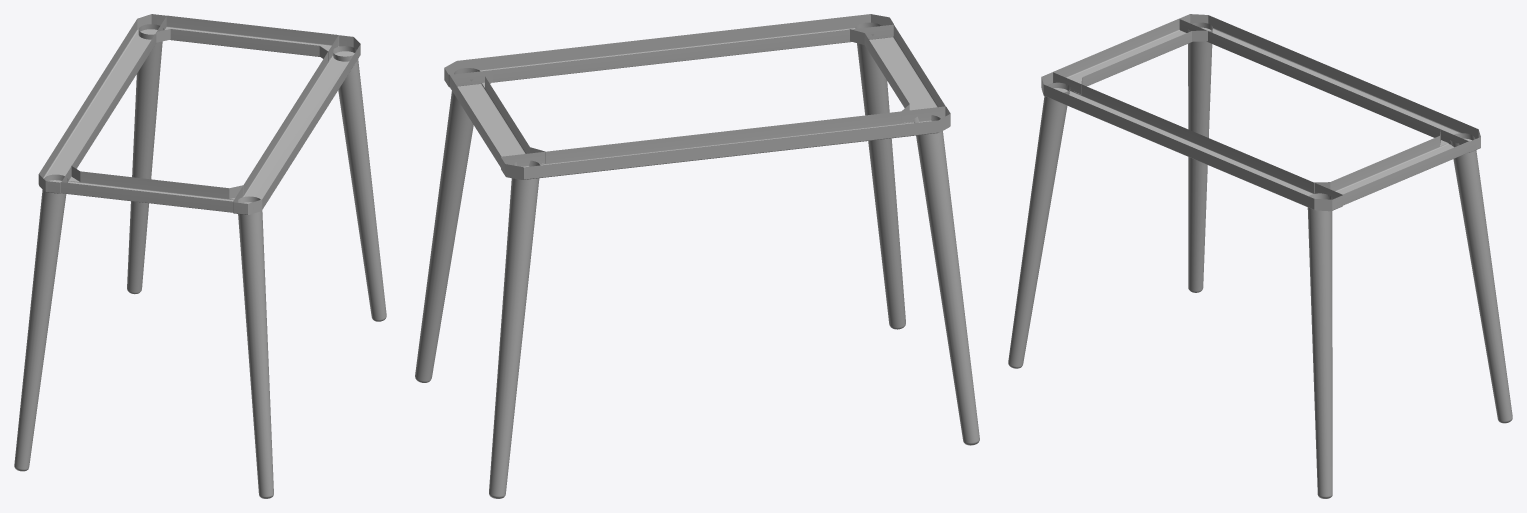
Rendered from diningtable_0101_leg.glb.
3 renders of one model, left to right at view 1: azimuth 30°, elevation 25°; view 2: azimuth 150°, elevation 25°; view 3: azimuth 270°, elevation 25°, orthographic. The views are drawn at different scales.
Parts seen in each view (by area): view 1: diningtable_0101_leg; view 2: diningtable_0101_leg; view 3: diningtable_0101_leg.
Part boxes in pixels (bbox=[...]): diningtable_0101_leg: bbox=[14, 14, 386, 498]; diningtable_0101_leg: bbox=[415, 14, 979, 498]; diningtable_0101_leg: bbox=[1008, 14, 1512, 498].
Bounding box in the file's own units: 1.14 × 0.7197 × 1.14.
1 material, 1 textured.
